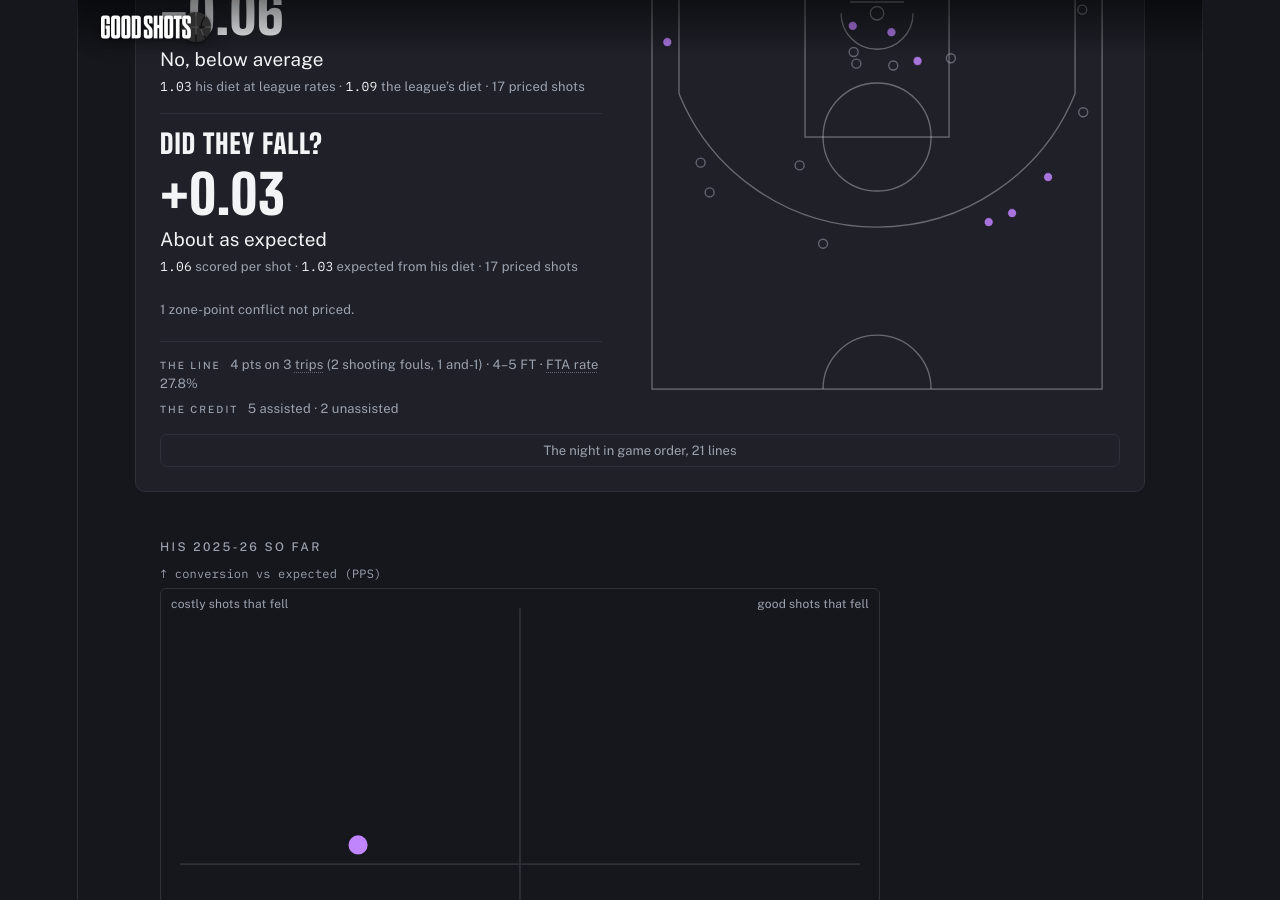
it: PlayersNightPage › opens the receipt in game order down to his box points
(page scrolled)
Click the button "The night in game order, 21 lines" at (640, 451), box [160, 434, 1120, 467]
(page scrolled)
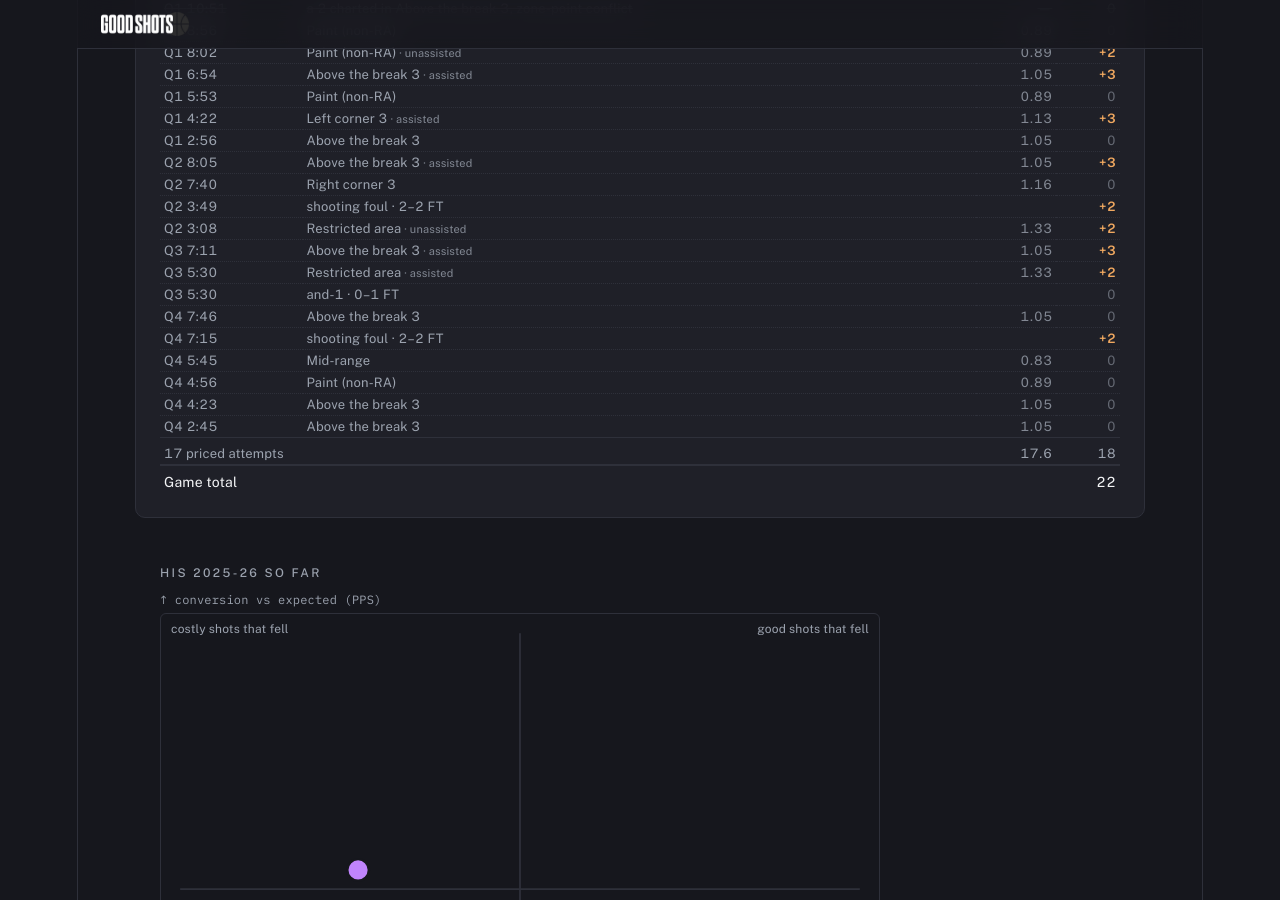
Now the text "22" is shown, box [1056, 464, 1120, 492]
Now the text "17 priced attempts" is shown, box [160, 437, 976, 464]
